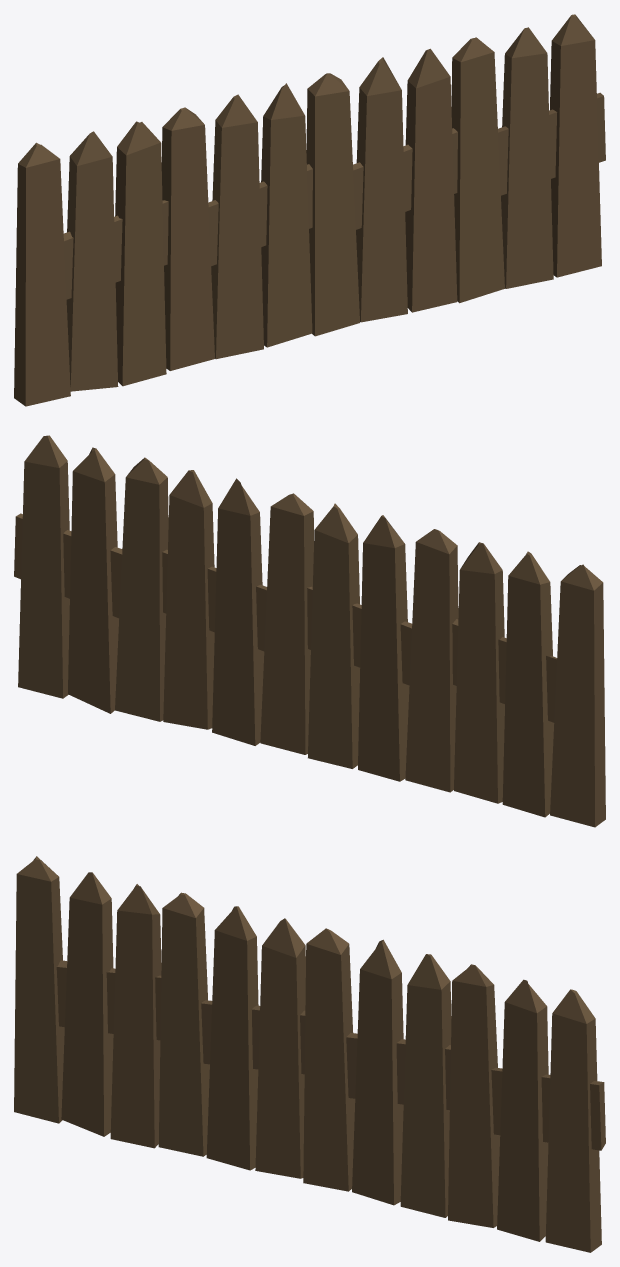
Rendered from fence.glb.
The picture shows the model from 3 angles, top to bottom: view 1: azimuth 30°, elevation 25°; view 2: azimuth 150°, elevation 25°; view 3: azimuth 330°, elevation 25°; orthographic projection.
Visible parts, largest first — view 1: Cube; view 2: Cube; view 3: Cube.
Part boxes in pixels (x1,y1,x2,y2): Cube: (14,14,605,406); Cube: (14,435,605,827); Cube: (14,856,605,1252).
Bounding box in the file's own units: 971 × 413 × 39.45.
